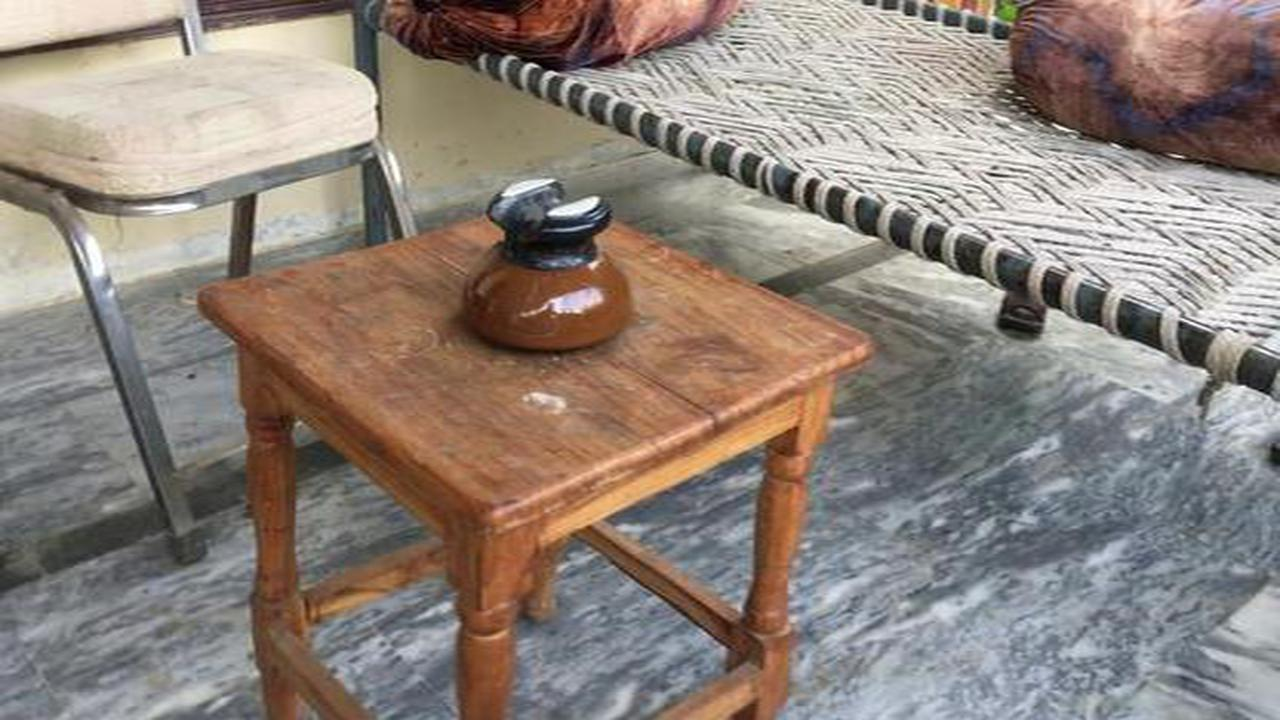insulator_pin: (441, 161, 656, 371)
